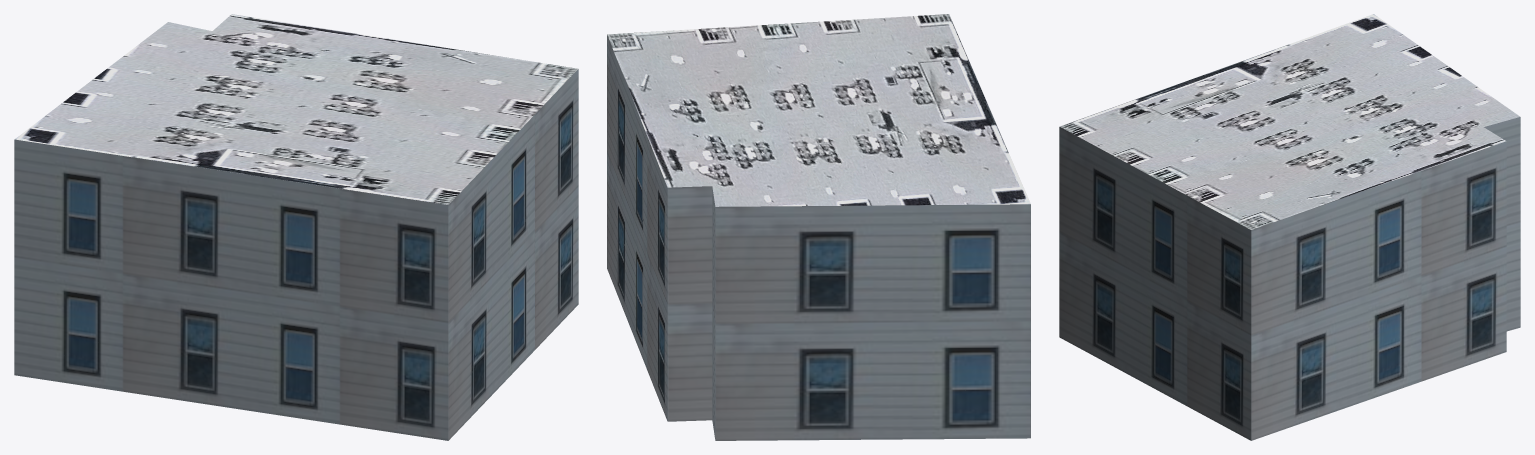
Rendered from ResTex__1510.fbx.
The picture shows the model from 3 angles, left to right: view 1: azimuth 30°, elevation 25°; view 2: azimuth 150°, elevation 25°; view 3: azimuth 270°, elevation 25°; orthographic projection. The views are drawn at different scales.
Parts seen in each view (by area): view 1: CityEngineMaterial_18_m, CityEngineMaterial_4_m; view 2: CityEngineMaterial_18_m, CityEngineMaterial_4_m; view 3: CityEngineMaterial_18_m, CityEngineMaterial_4_m.
Boxes of the visible parts, bbox=[...] form: CityEngineMaterial_18_m: bbox=[14, 69, 578, 440]; CityEngineMaterial_4_m: bbox=[14, 14, 578, 204]; CityEngineMaterial_18_m: bbox=[607, 35, 1030, 440]; CityEngineMaterial_4_m: bbox=[607, 14, 1030, 206]; CityEngineMaterial_18_m: bbox=[1059, 117, 1520, 440]; CityEngineMaterial_4_m: bbox=[1060, 14, 1520, 229].
Bounding box in the file's own units: 13.19 × 6 × 11.89.
2 materials, 2 textured.
